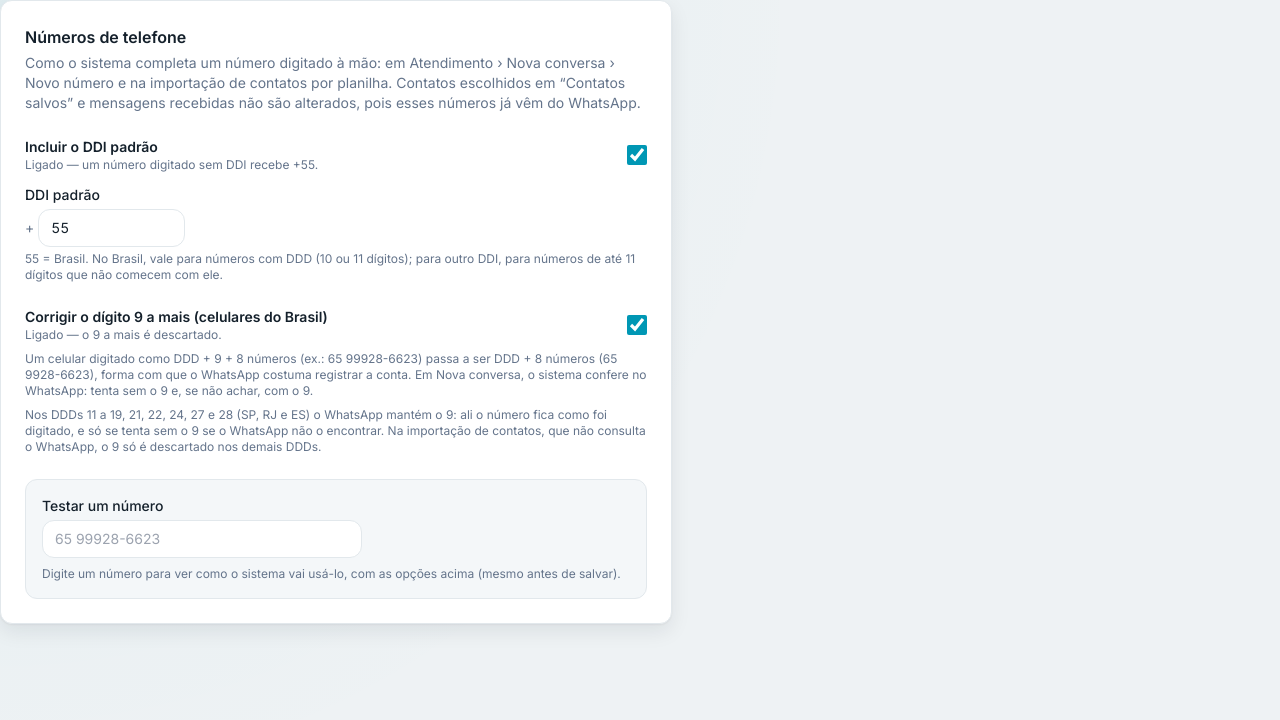
Configurações › Números de telefone › salva as alterações e some com o aviso de não salvo
Check: the switch labelled "Incluir o DDI padrão" is shown, box [627,145,647,165]
Replace the text in the field labelled "DDI padrão +" with "351" at point(112, 228), box [38,209,185,247]
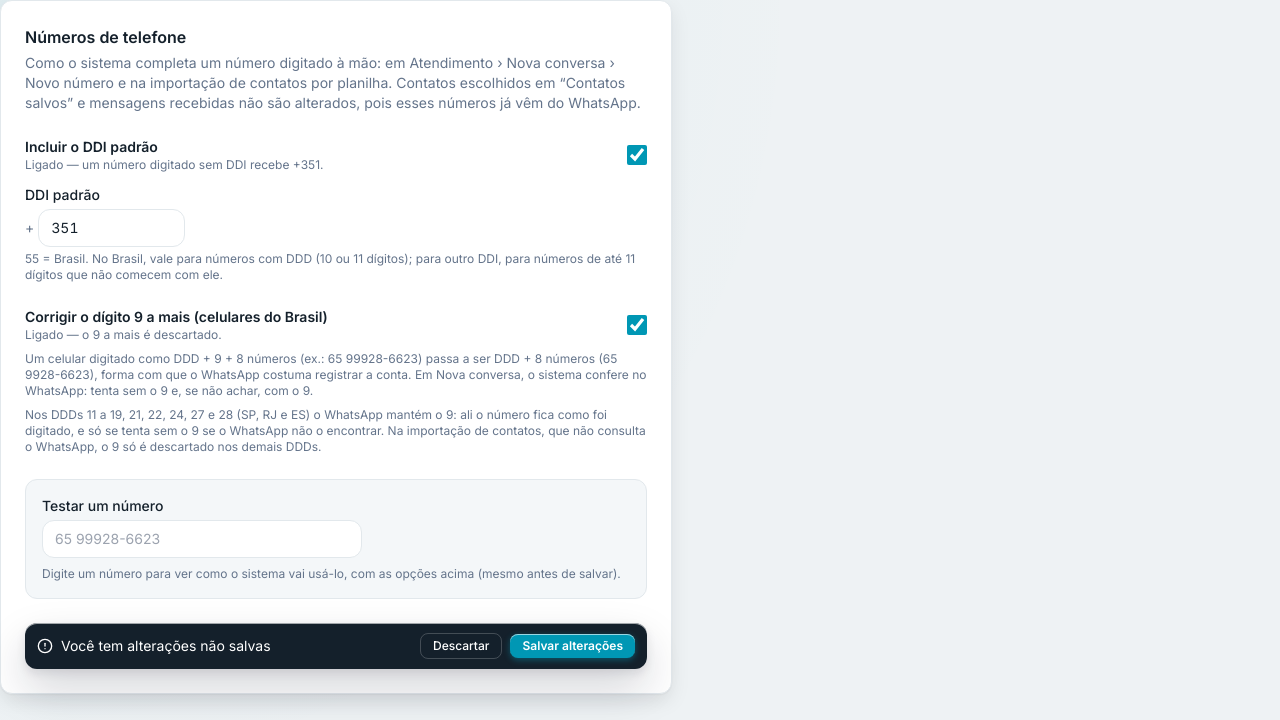
Click the switch labelled "Corrigir o dígito 9" at point(637, 325), box [627,315,647,335]
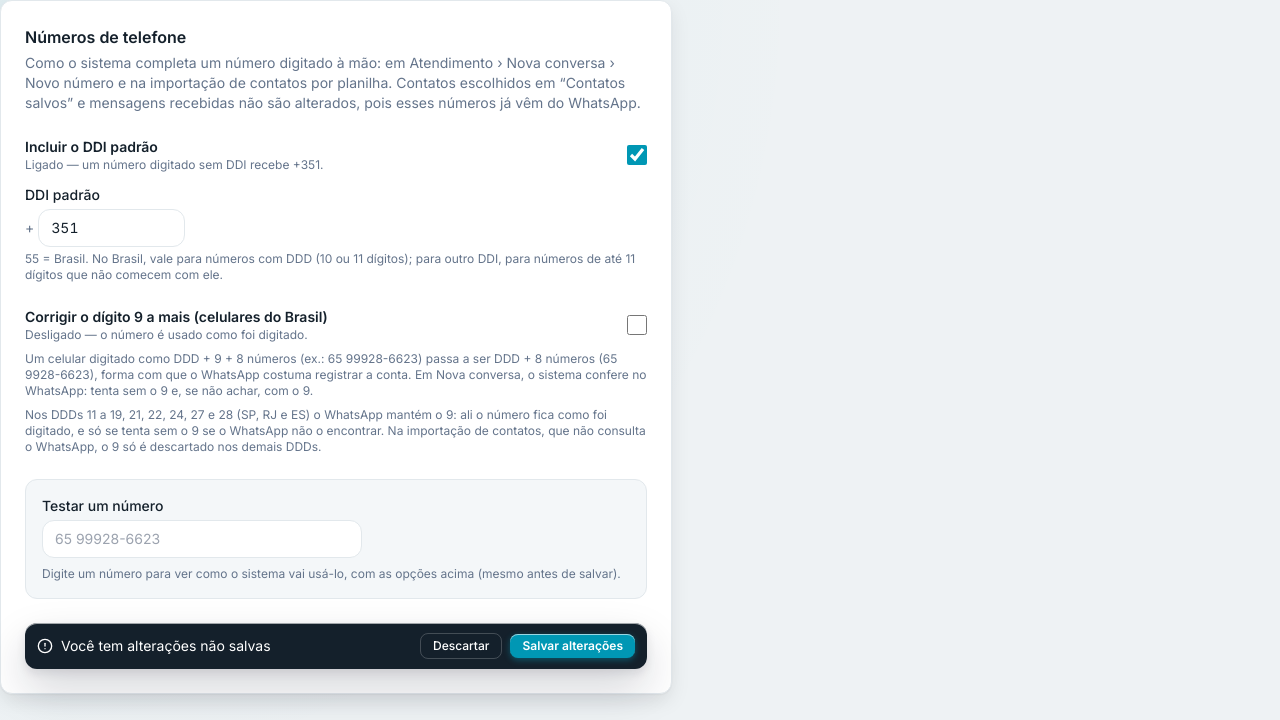
Check: the text "Você tem alterações não salvas" is shown, box [61,637,271,654]
Click the button "Salvar alterações" at point(573, 646), box [510,634,635,658]
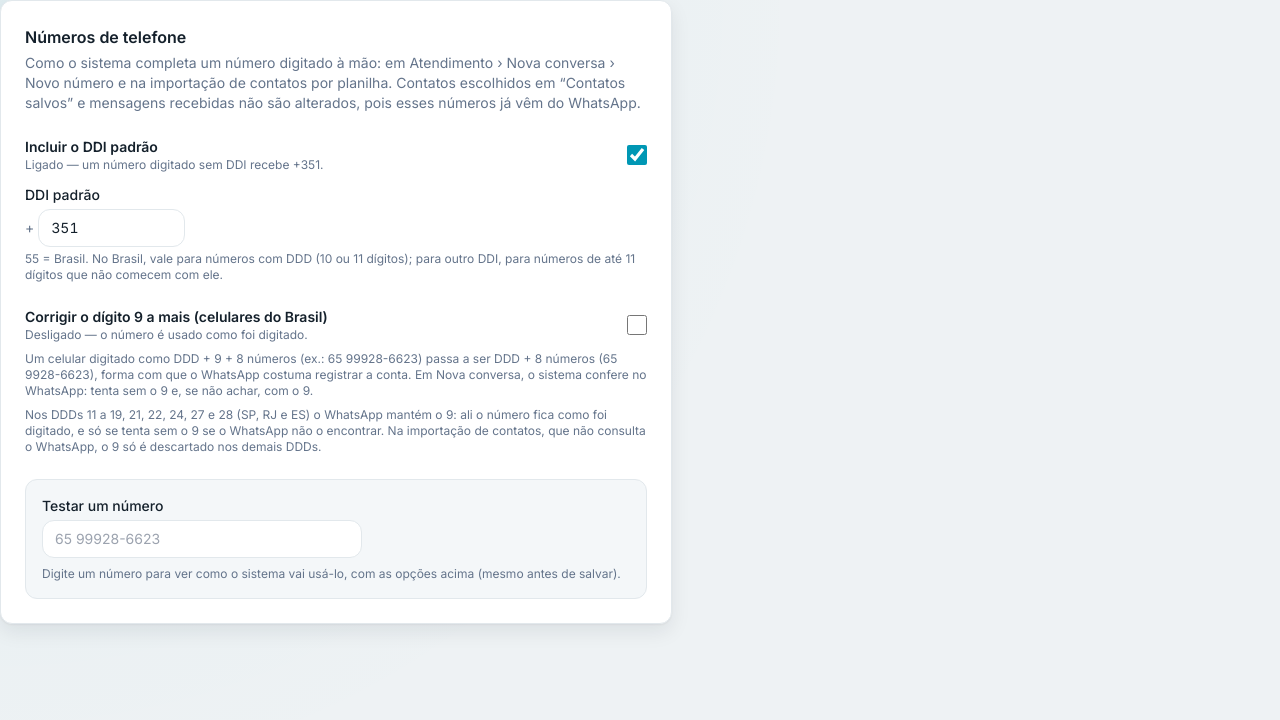
Check: the text "Você tem alterações não salvas" is gone
